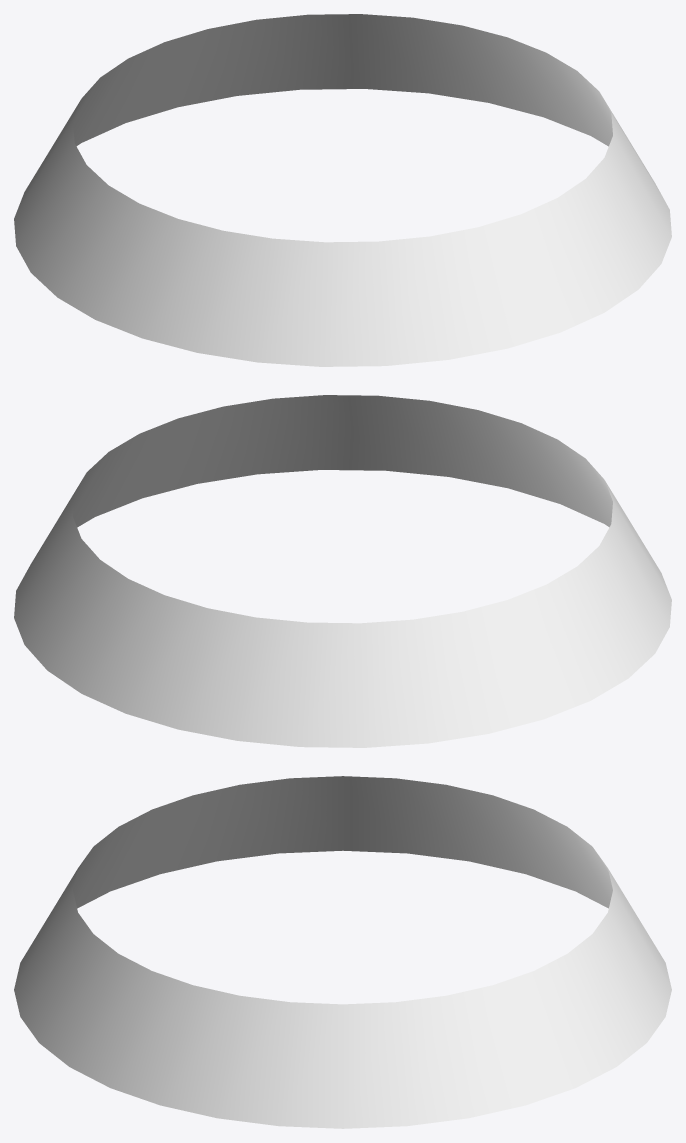
Rendered from shield_4.fbx.
3 views of the same model, one above another, from view 1: azimuth 30°, elevation 25°; view 2: azimuth 150°, elevation 25°; view 3: azimuth 270°, elevation 25° (orthographic).
Visible parts, largest first — view 1: Cylinder001; view 2: Cylinder001; view 3: Cylinder001.
Part boxes in pixels (x1=…): Cylinder001: x1=14, y1=14, x2=671, y2=366; Cylinder001: x1=14, y1=395, x2=671, y2=747; Cylinder001: x1=14, y1=776, x2=671, y2=1128.
Bounding box in the file's own units: 64 × 10.69 × 64.
1 material, 1 textured.
